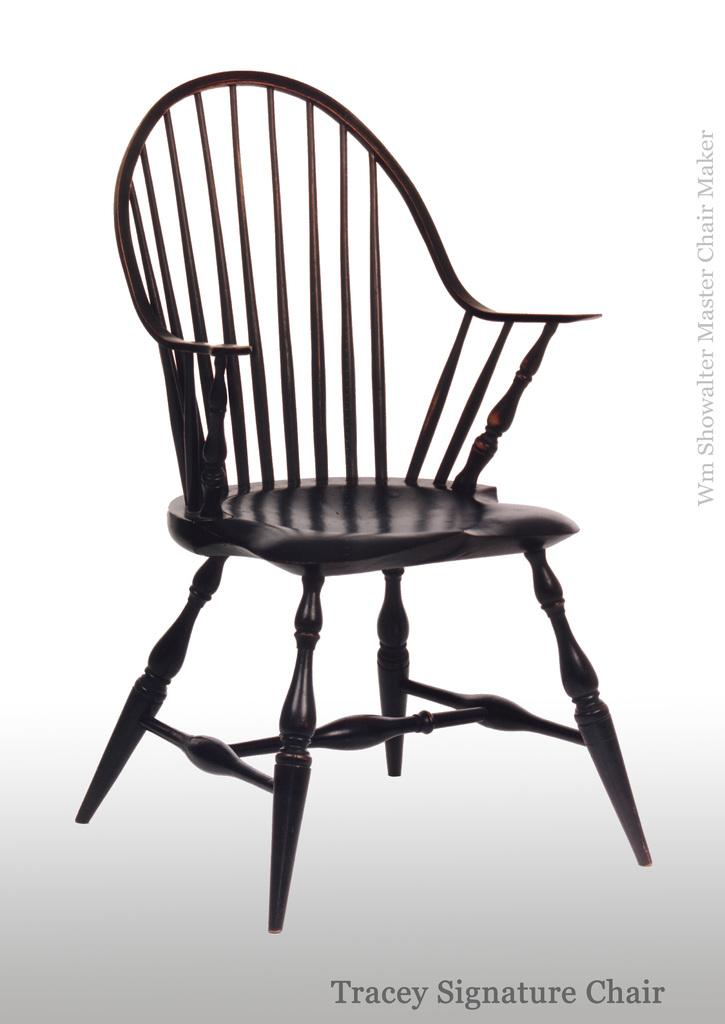Chair: (68, 65, 651, 938)
